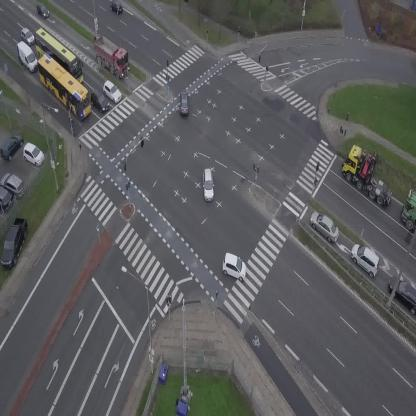bicycle: (68, 118, 75, 133)
bus: (28, 50, 100, 121), (25, 26, 93, 88)
car: (345, 240, 387, 280), (304, 208, 345, 245), (219, 252, 251, 282), (86, 87, 114, 114), (99, 79, 125, 104), (17, 26, 37, 47), (202, 168, 214, 202), (33, 1, 51, 21), (180, 92, 189, 114)
lorry: (334, 138, 398, 218), (86, 32, 138, 81), (11, 39, 41, 75), (401, 189, 416, 232)
